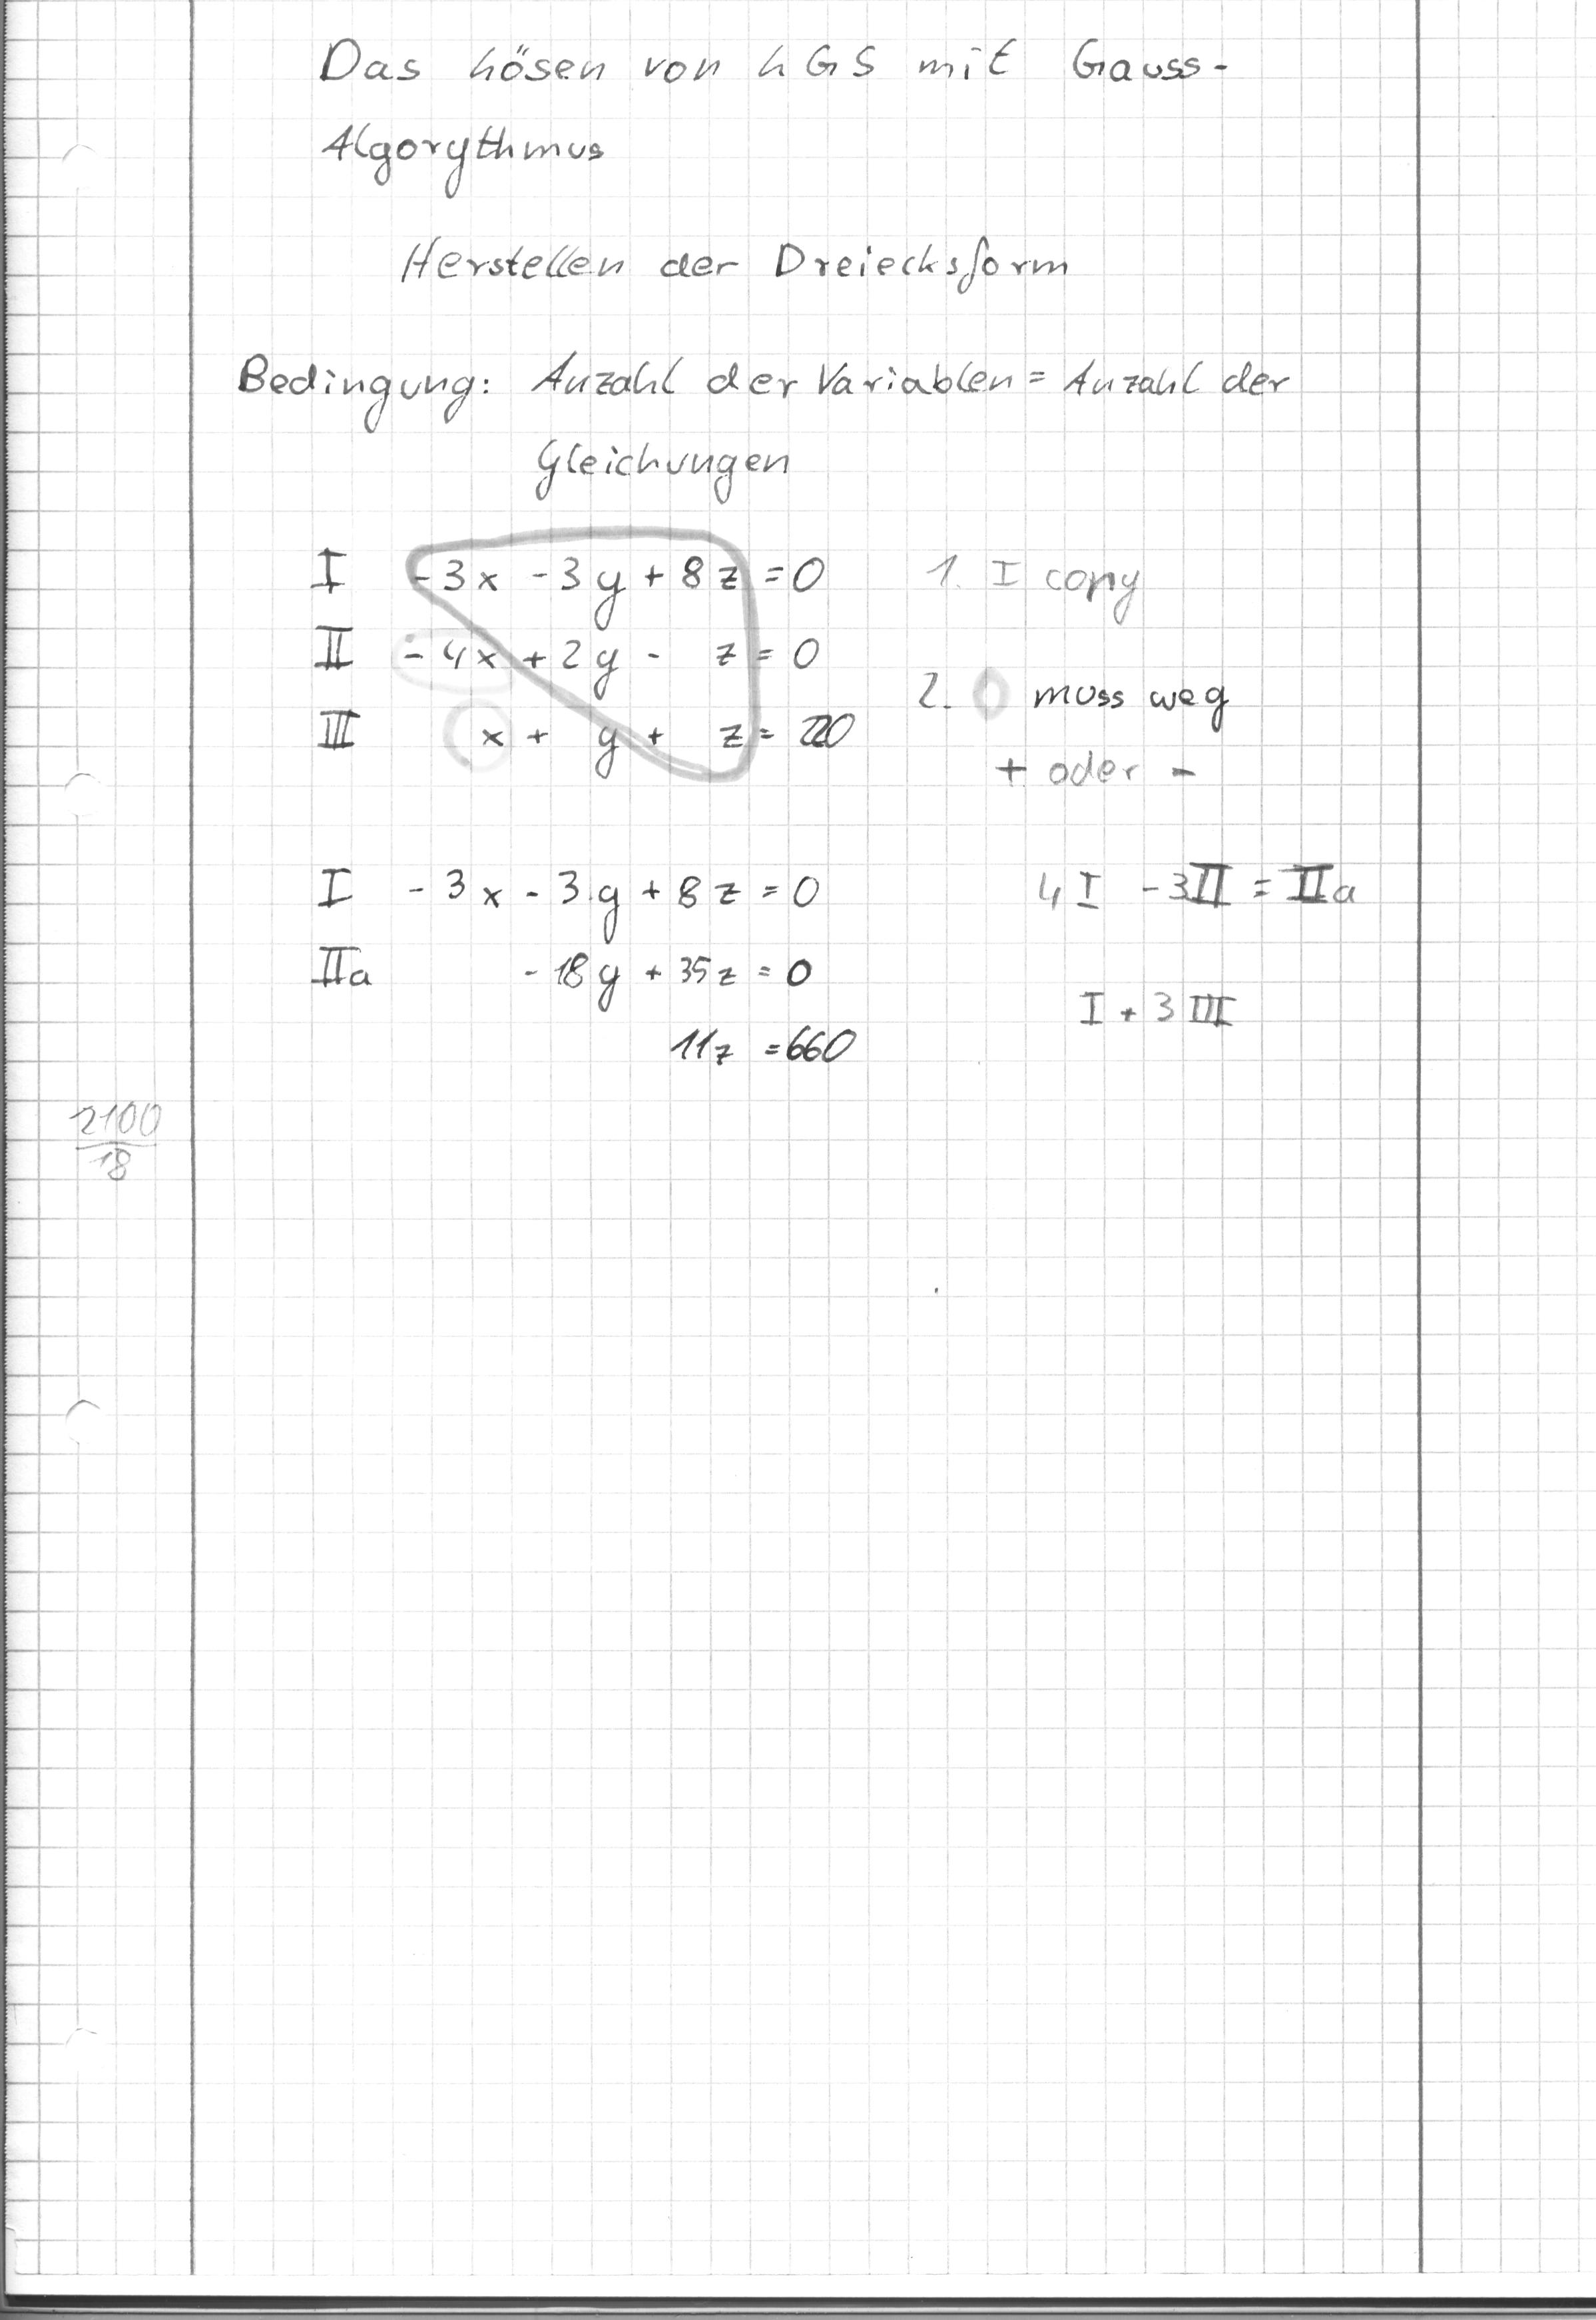word: (298, 25, 1252, 206), (296, 539, 882, 789), (511, 340, 1286, 522), (304, 849, 858, 1089), (386, 220, 1077, 308), (221, 329, 495, 436)
